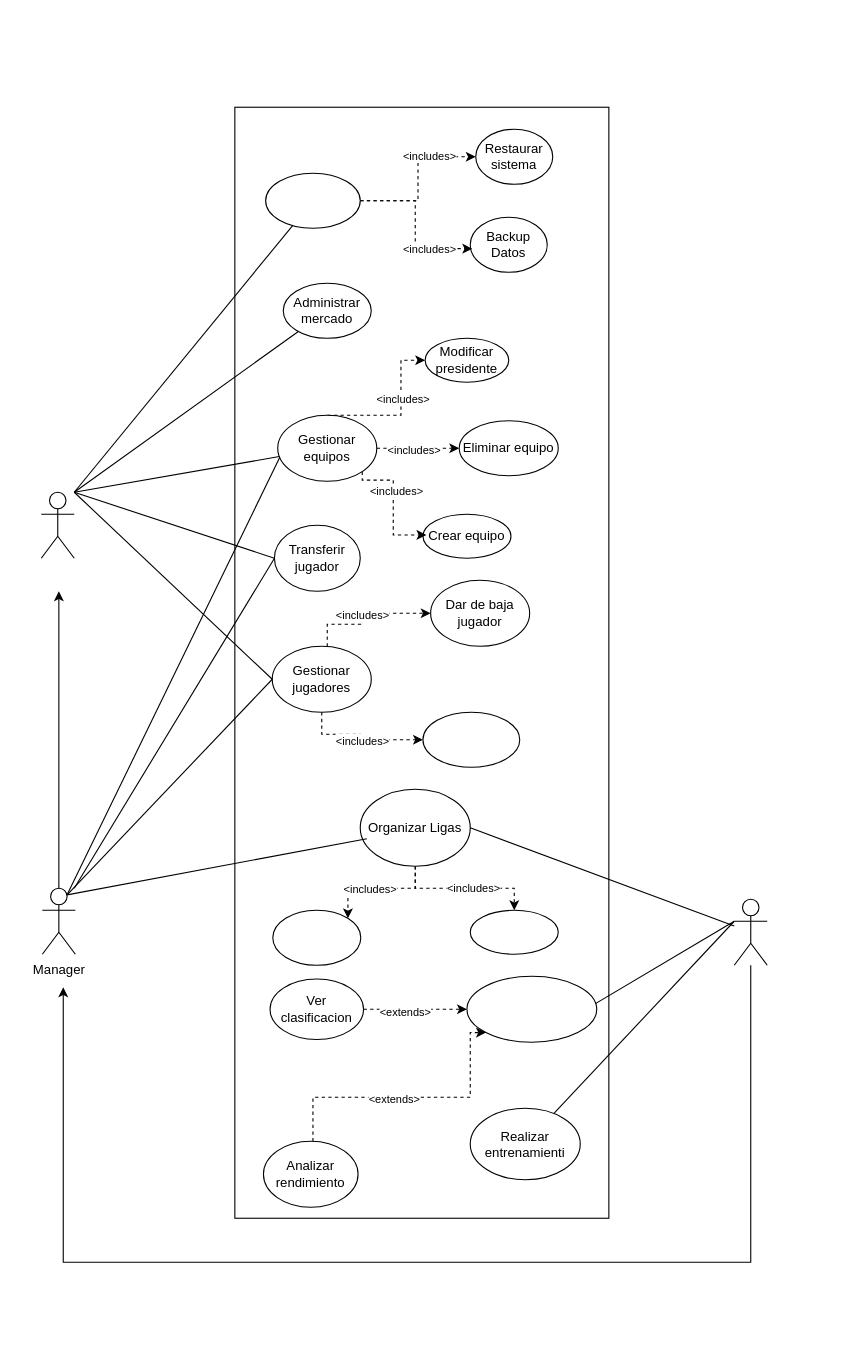
This 851x1346 diagram has some shape labels left out. Each missing label, with the centre of its shape:
"Admin" belongs at point 57,524.
"Configurar sistema" belongs at point 312,200.
"Consultar estadisticas" belongs at point 531,1008.
"Programar partidos" belongs at point 316,937.
"Registrar jugador" belongs at point 471,739.
"Simular liga" belongs at point 513,931.
"Sistema" belongs at point 750,931.
